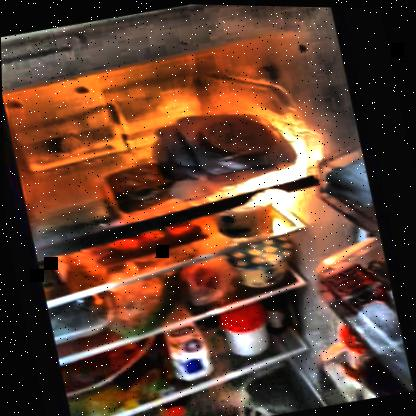broccoli: (46, 297, 110, 338)
butter: (102, 158, 175, 210)
carrot: (100, 221, 208, 263)
cheese: (25, 171, 102, 223)
green_chillies: (104, 274, 190, 338)
milk: (163, 322, 212, 381)
salami: (194, 103, 279, 164)
tomato: (181, 260, 227, 294)
yoghurt: (226, 238, 299, 292)
